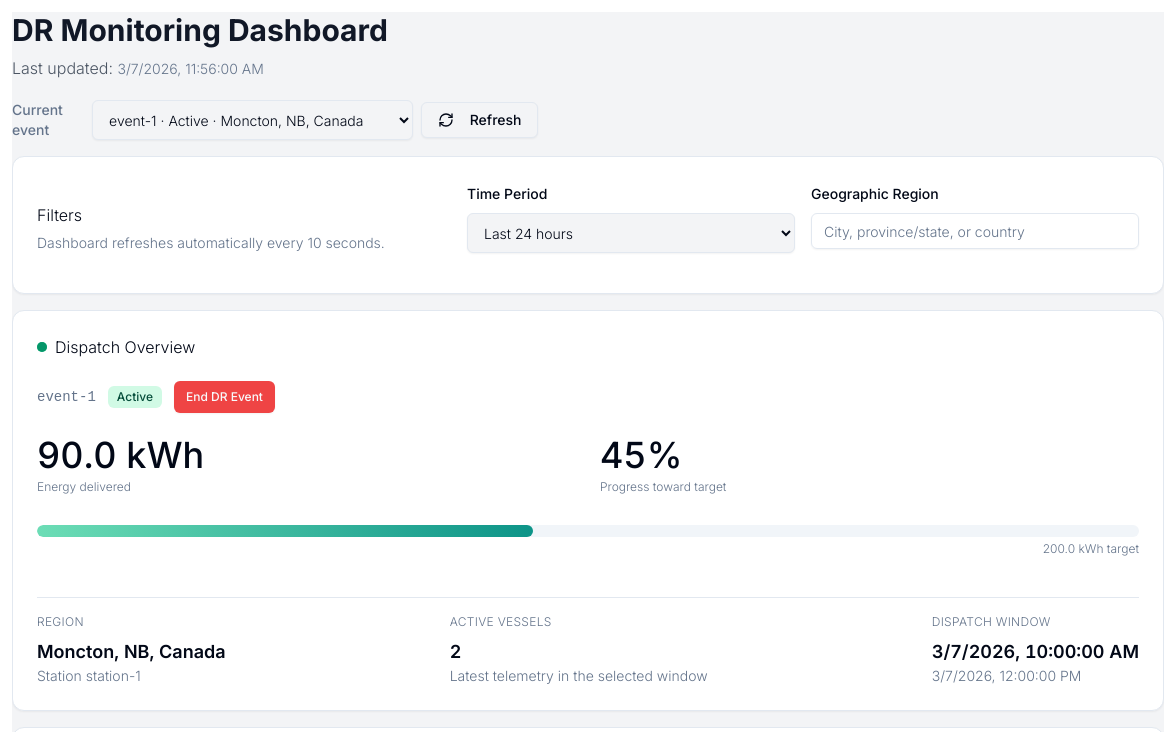
Scenario: PowerDashboard › ends an active event and refreshes the same dashboard view
The width and height of the screenshot is (1164, 732).
Click the button "End DR Event".
click(224, 397)  # box [174,381,275,413]
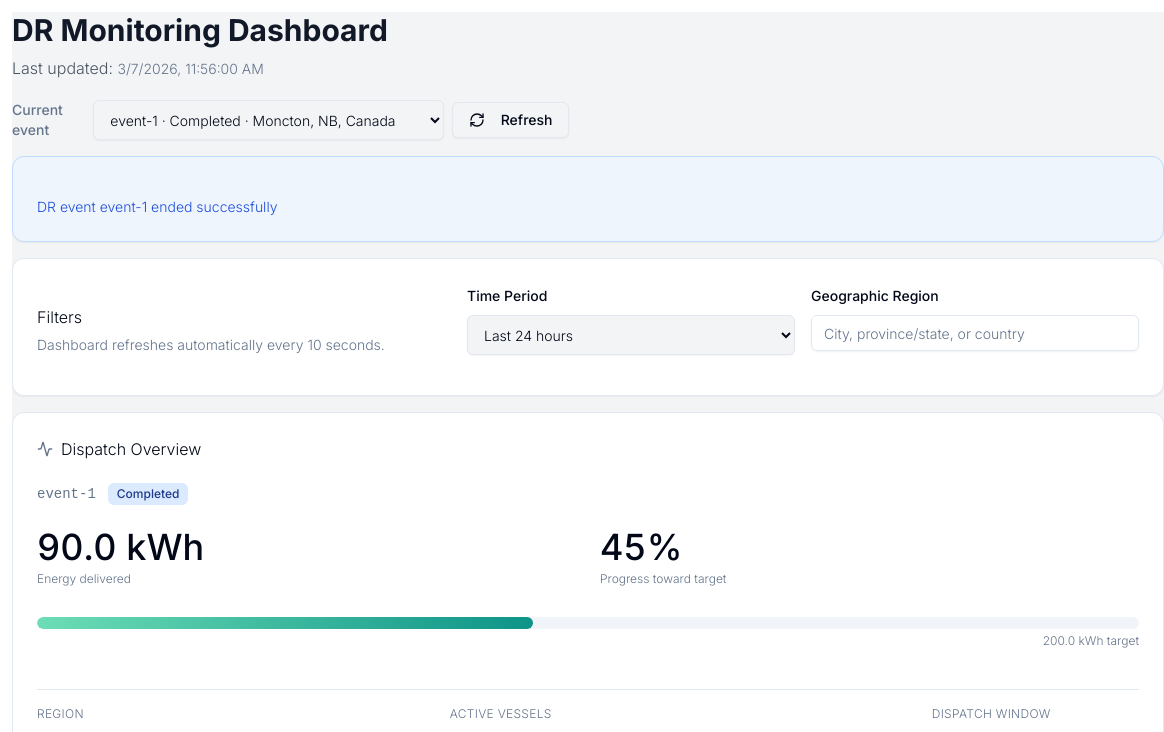
Check: the text "DR event event-1 ended successfully" is shown, box [37,198,278,215]
Check: the button "End DR Event" is gone
